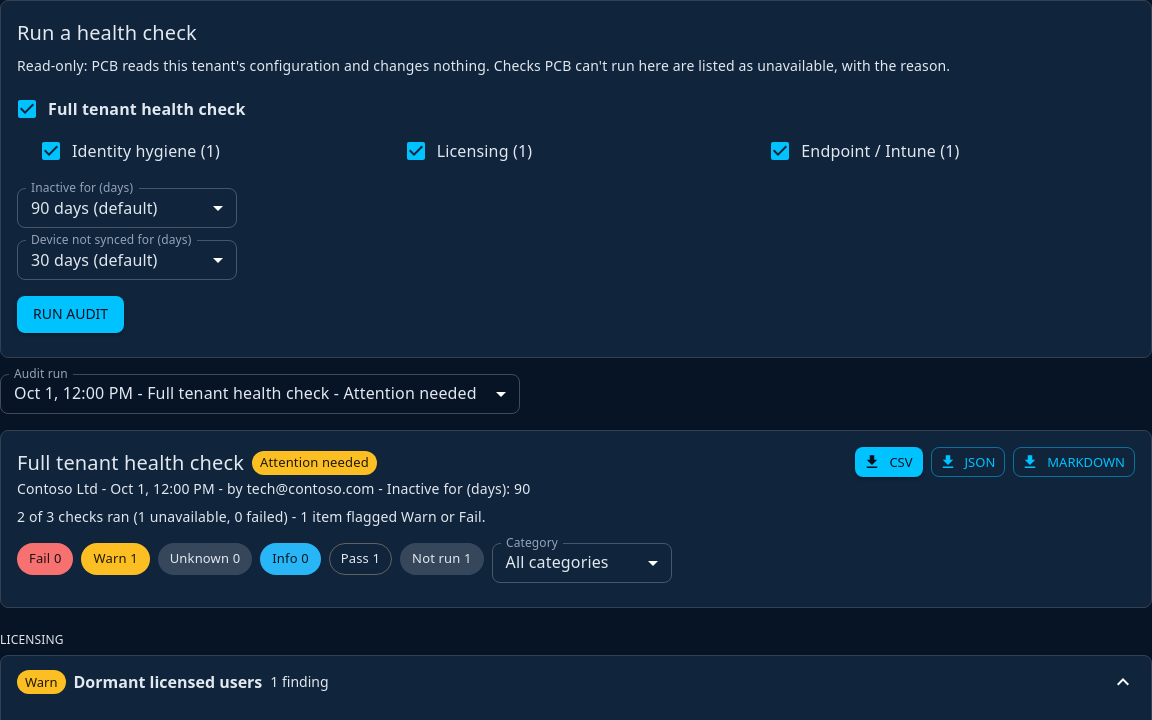
it: TenantAudits › filters by severity and category; passing checks are hidden until asked for
Expected: the heading "Dormant licensed users" is shown, [74,668,262,696]
Expected: the text "Guest account review" is not shown
Click the button "Pass 1".
click(360, 558)  # box [329,542,392,574]
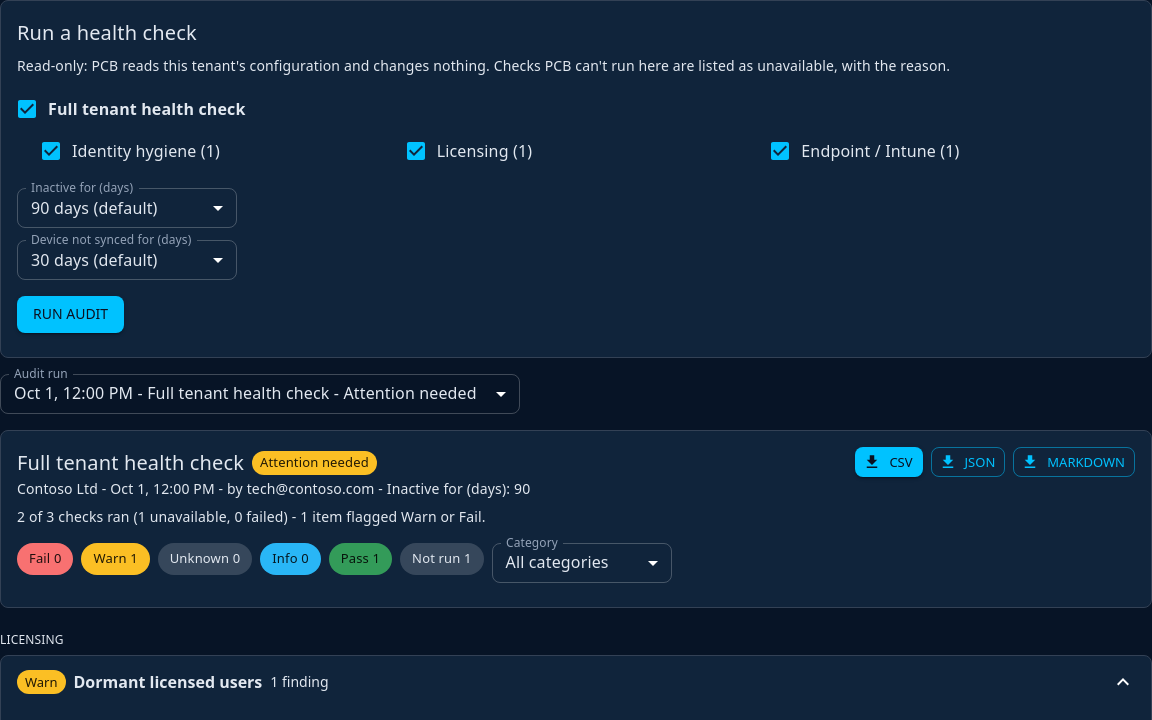
Click the button "Warn 1".
click(116, 558)  # box [82,542,150,574]
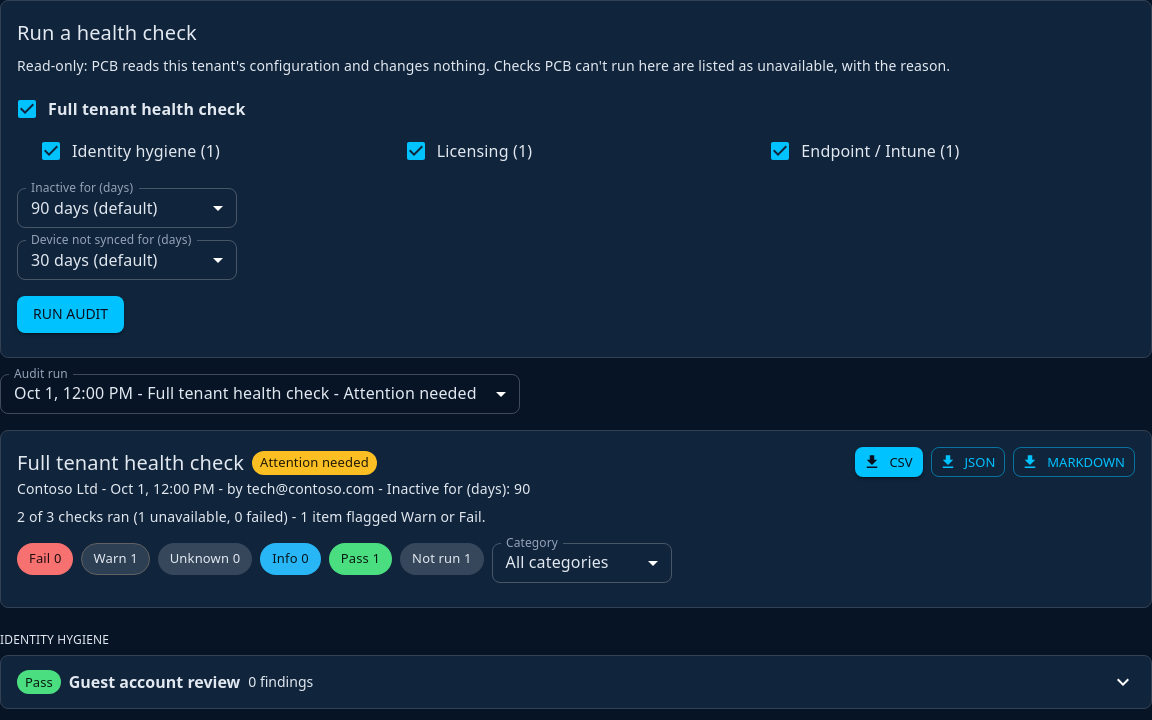
Result: the button "Dormant licensed users" is gone
Click the dropdown named "Category".
click(557, 562)  # box [506,551,609,573]
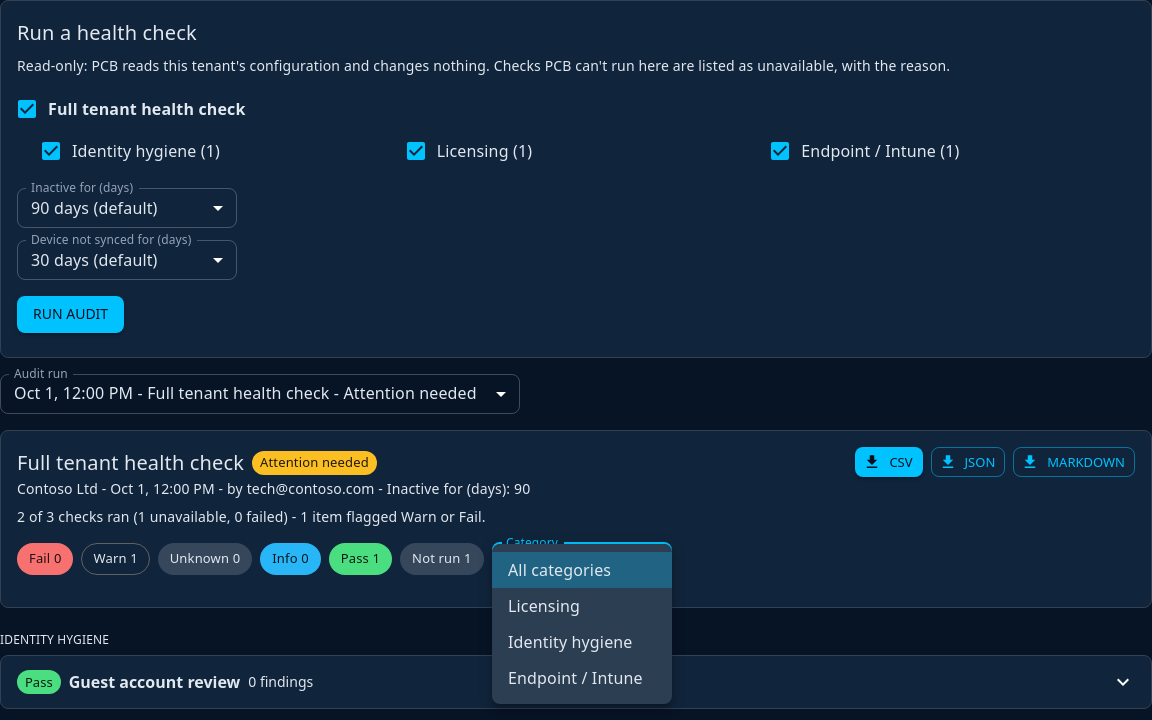
Click the option "Endpoint / Intune".
click(575, 678)  # box [508,667,643,689]
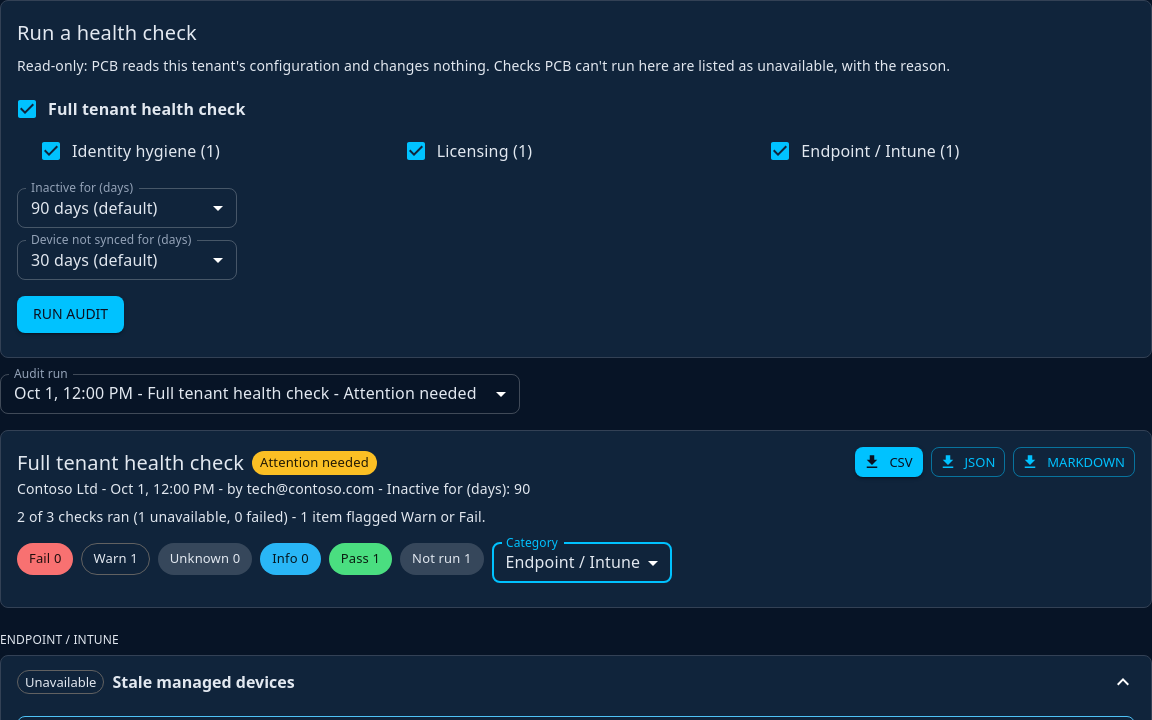
Expected: the heading "Stale managed devices" is shown, [112,668,295,696]
Result: the button "Guest account review" is gone
